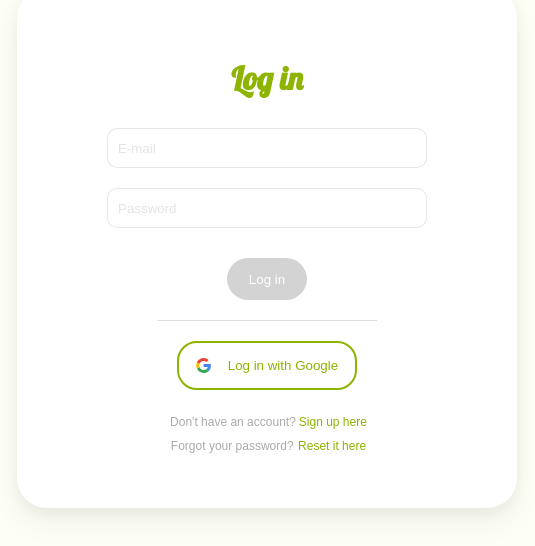
it: Pages › Login › should show error when not a valid email
Type "asdf" into the field with placeholder "E-mail" at {"x": 267, "y": 148}, box x1=107 y1=128 x2=427 y2=168
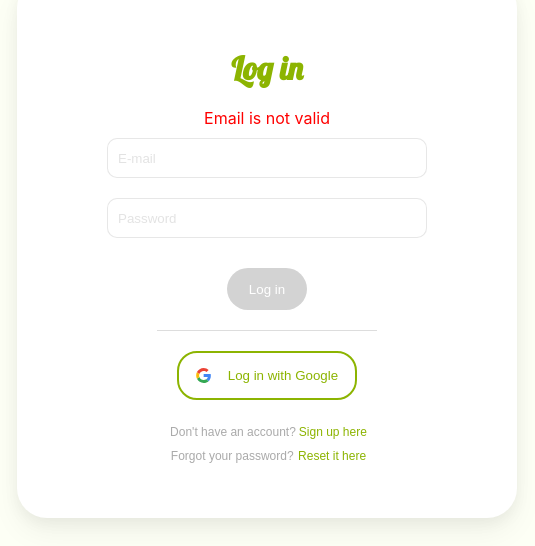
Check: the text with class "error_message" reads "Email is not valid", box x1=204 y1=108 x2=330 y2=128
